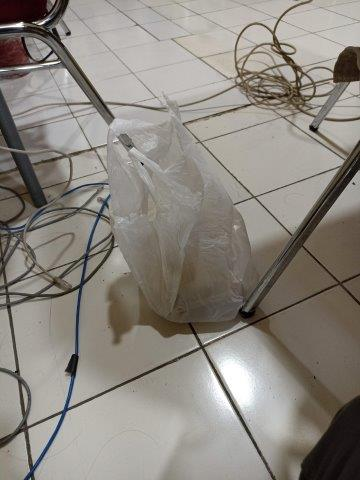plastik: (107, 102, 258, 322)
